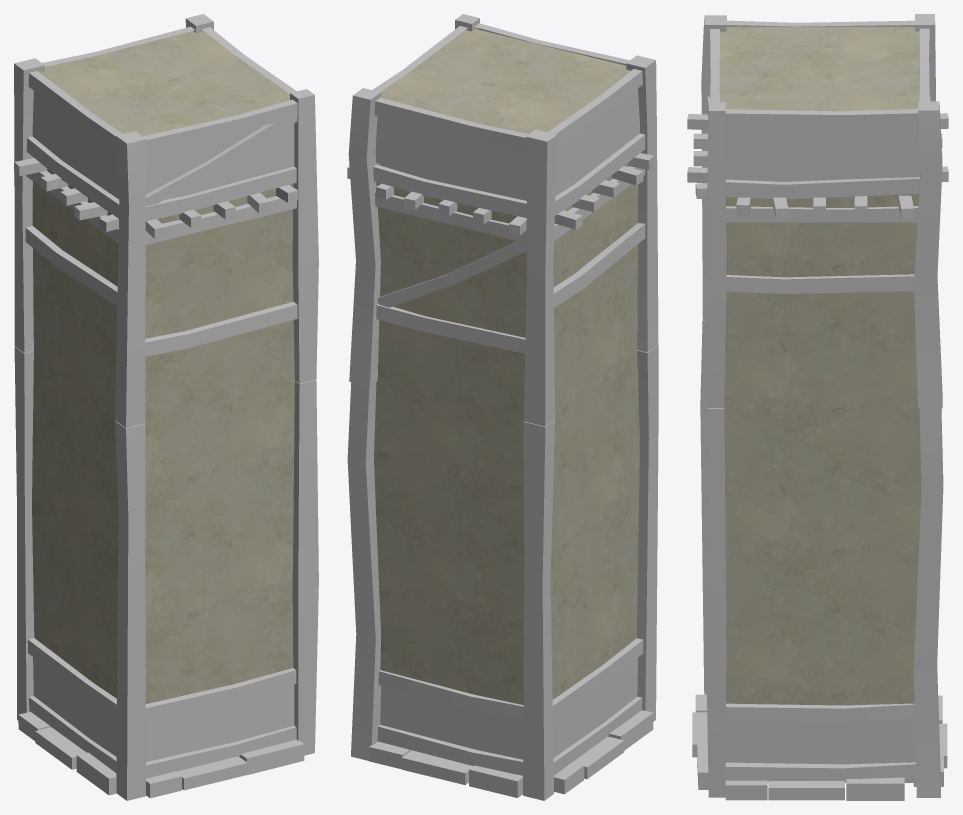
Rendered from A_TowerBig_Floor_C.fbx.
The picture shows the model from 3 angles, left to right: view 1: azimuth 30°, elevation 25°; view 2: azimuth 150°, elevation 25°; view 3: azimuth 270°, elevation 25°; orthographic projection. The views are drawn at different scales.
Visible parts, largest first — view 1: A_TowerBig_Floor_C, A_TowerBig_Floor_C_KitPart; view 2: A_TowerBig_Floor_C, A_TowerBig_Floor_C_KitPart; view 3: A_TowerBig_Floor_C, A_TowerBig_Floor_C_KitPart.
Part boxes in pixels (<box>): A_TowerBig_Floor_C: <box>32,31,294,703</box>; A_TowerBig_Floor_C_KitPart: <box>14,14,318,800</box>; A_TowerBig_Floor_C: <box>374,29,639,704</box>; A_TowerBig_Floor_C_KitPart: <box>347,14,658,800</box>; A_TowerBig_Floor_C: <box>719,27,921,705</box>; A_TowerBig_Floor_C_KitPart: <box>687,14,948,800</box>.
Size of the model in its own units: 276 by 770 by 265.
